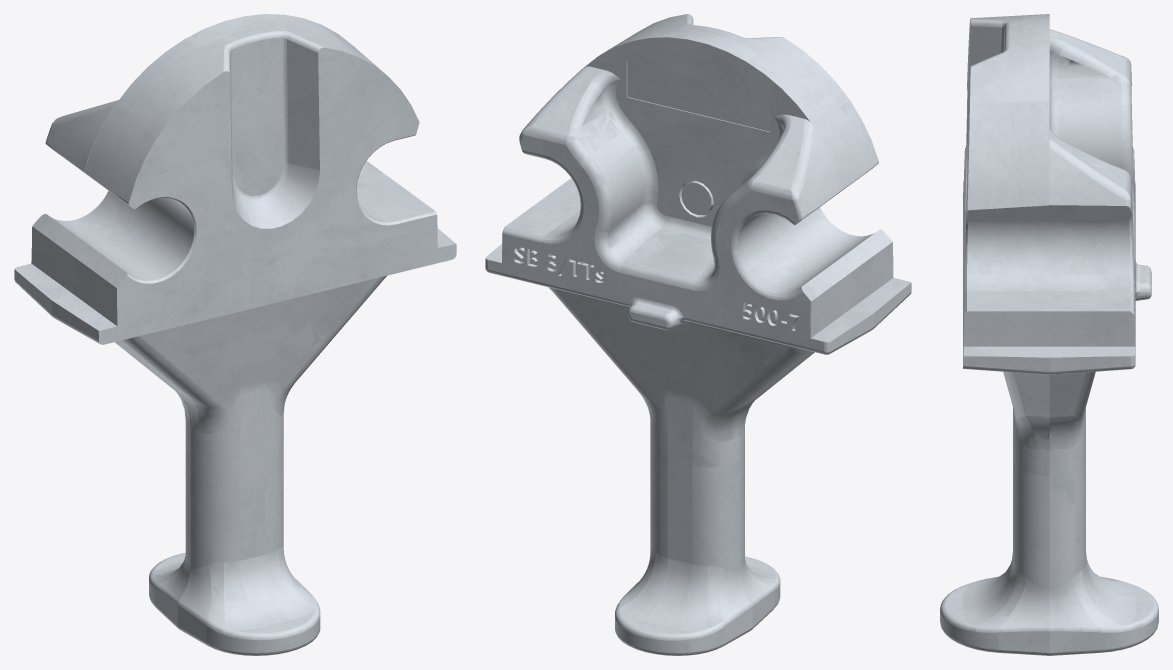
3 renders of one model, left to right at view 1: azimuth 30°, elevation 25°; view 2: azimuth 150°, elevation 25°; view 3: azimuth 270°, elevation 25°, orthographic. The views are drawn at different scales.
Parts seen in each view (by area): view 1: Bryła1; view 2: Bryła1; view 3: Bryła1.
Part boxes in pixels (box(x1,y1,x2,y2)): Bryła1: box(14, 14, 456, 655); Bryła1: box(485, 14, 911, 655); Bryła1: box(940, 14, 1158, 655).
Size of the model in its own units: 0.81 by 1.27 by 0.42.
1 material, 1 textured.
